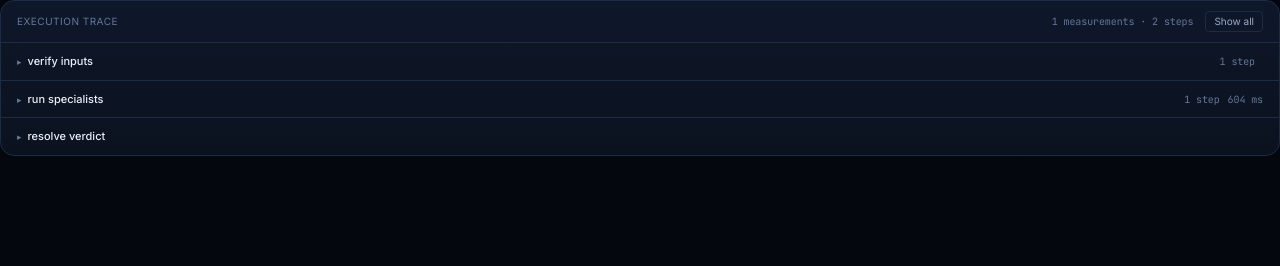
Test: RunTracePanel › opens one stage without opening the rest
Click the button "▸ run specialists 1 step 604 ms": (66, 98) [17,90,1263,107]
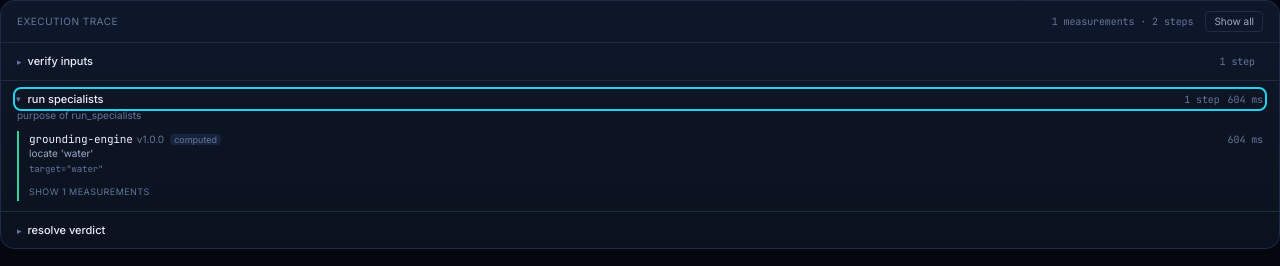
Result: the text "grounding-engine" is shown at [29,132,133,146]
